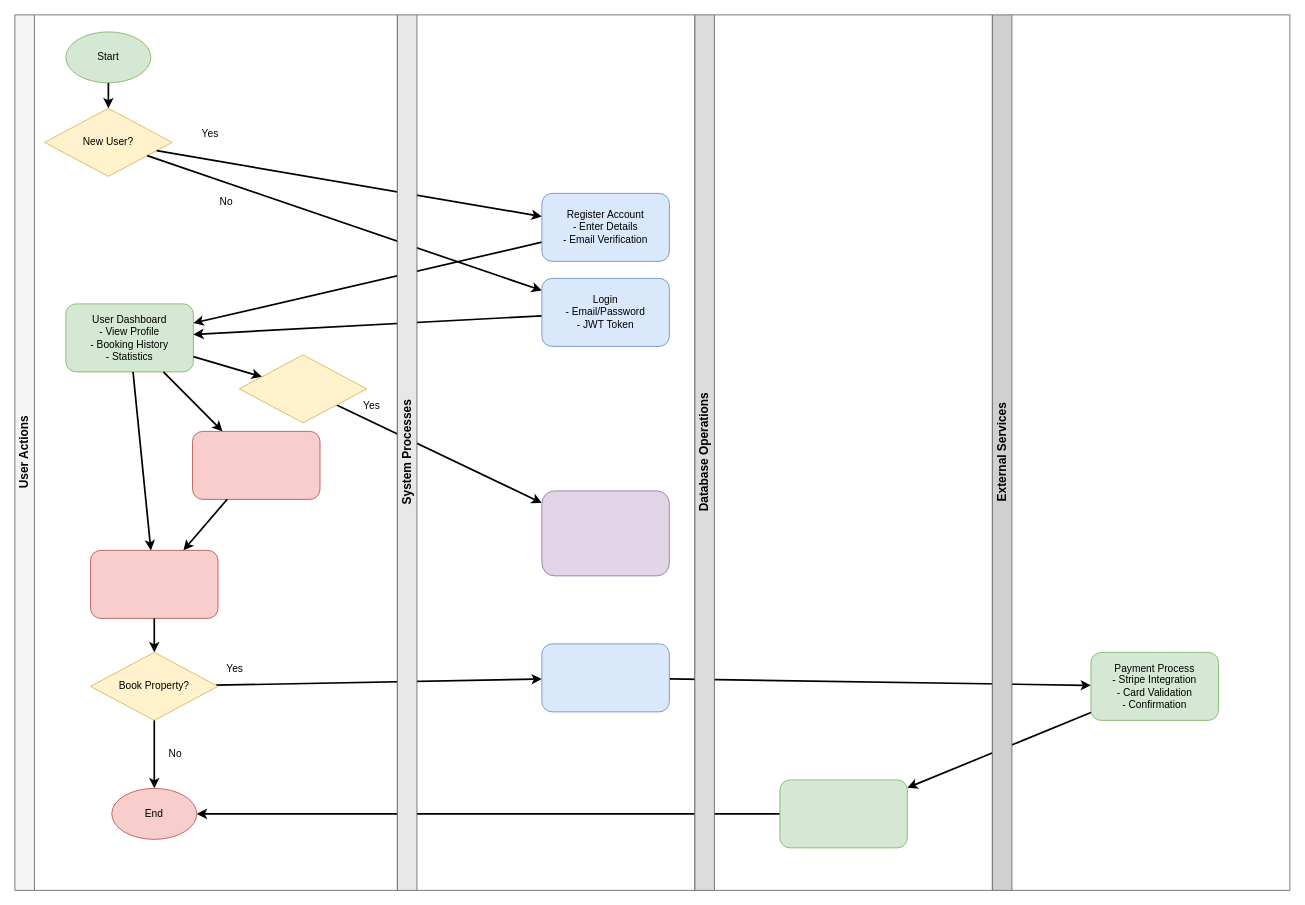
Image size: 1305x905. Some labels were removed from this diagram. The centre of each missing label's shape, as x and y in pixels:
Admin Dashboard - User Management - Property Approval - Analytics - Reports: the point at 605,533
Admin User?: the point at 302,388
Booking Confirmed - Email Notification - Update Calendar: the point at 843,813
Create Booking - Select Dates - Number of Guests - Special Requests: the point at 605,677
Search Properties - Filters - Sort - Pagination: the point at 256,465
View Property - Images - Amenities - Reviews - Pricing: the point at 154,584
